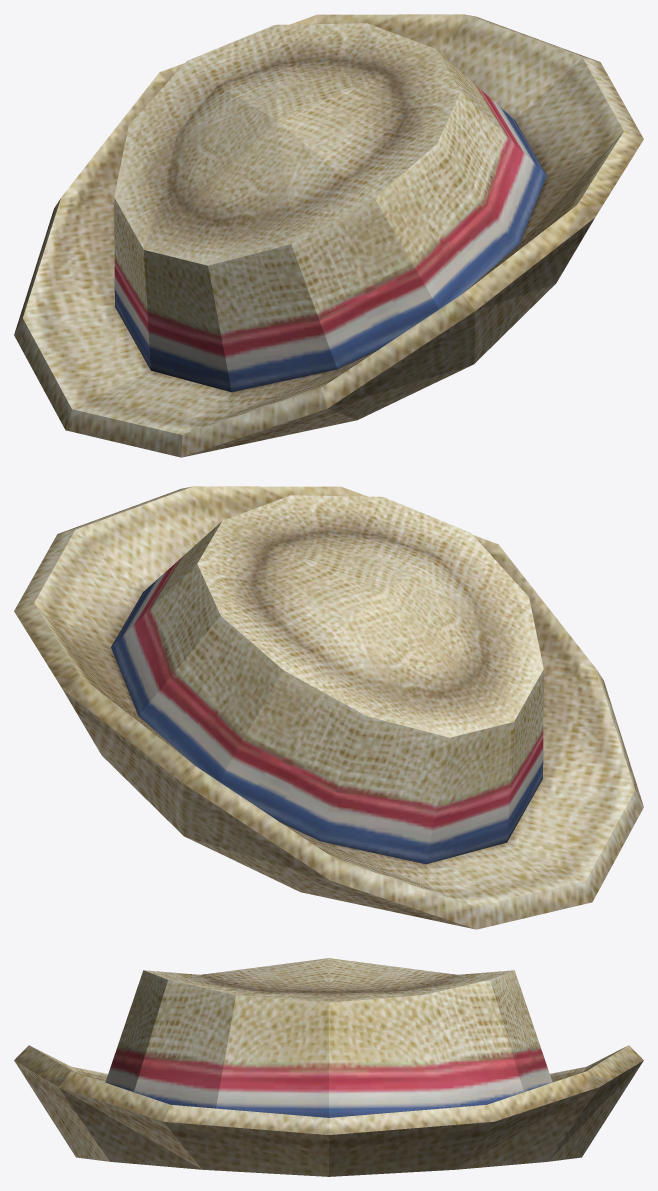
Rendered from Bison_summerHat.obj.
The picture shows the model from 3 angles, top to bottom: view 1: azimuth 30°, elevation 25°; view 2: azimuth 150°, elevation 25°; view 3: azimuth 270°, elevation 25°; orthographic projection.
Visible parts, largest first — view 1: Bison_summerHat_tri; view 2: Bison_summerHat_tri; view 3: Bison_summerHat_tri.
Part boxes in pixels (x1=…): Bison_summerHat_tri: x1=14, y1=14, x2=643, y2=457; Bison_summerHat_tri: x1=14, y1=486, x2=643, y2=929; Bison_summerHat_tri: x1=14, y1=958, x2=643, y2=1176.
Bounding box in the file's own units: 0.5625 × 0.2999 × 0.5794.
Materials: 1 (1 with a texture image).
